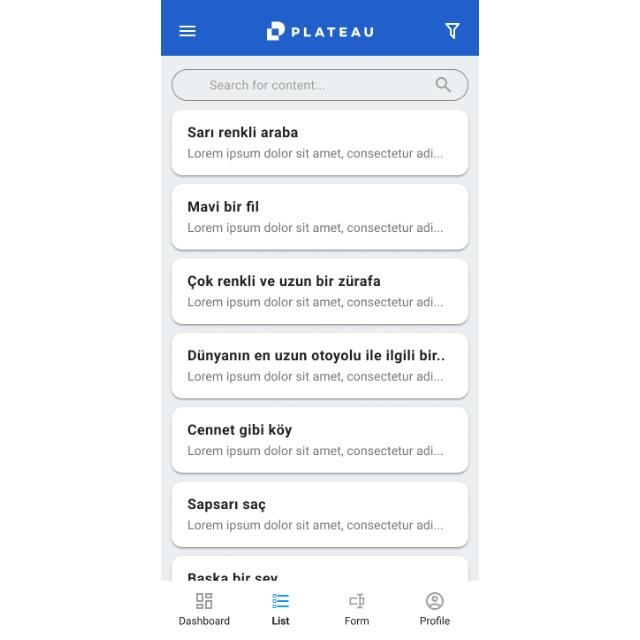QLabel: (186, 349, 447, 363), (187, 146, 446, 160), (186, 296, 444, 310), (186, 371, 444, 384), (186, 274, 382, 290), (187, 222, 446, 234), (186, 445, 444, 457), (186, 520, 444, 532), (186, 422, 294, 438), (186, 126, 300, 140), (186, 498, 268, 512), (187, 200, 260, 212), (186, 572, 280, 580), (178, 616, 230, 626), (420, 616, 452, 626), (344, 616, 370, 626), (272, 616, 290, 626)
VAppBar: (161, 0, 479, 56)
VBottomNavigation: (161, 582, 479, 640)
VCard: (171, 109, 469, 177), (171, 258, 469, 326), (171, 481, 469, 549), (170, 183, 470, 250), (170, 333, 470, 399), (171, 408, 471, 474), (172, 556, 468, 580)
VIcon: (194, 592, 214, 612), (272, 592, 290, 610), (348, 592, 366, 610), (426, 592, 444, 610), (445, 22, 461, 40), (178, 24, 198, 38)
VImg: (265, 21, 375, 43)
VTextField: (171, 68, 469, 102)
